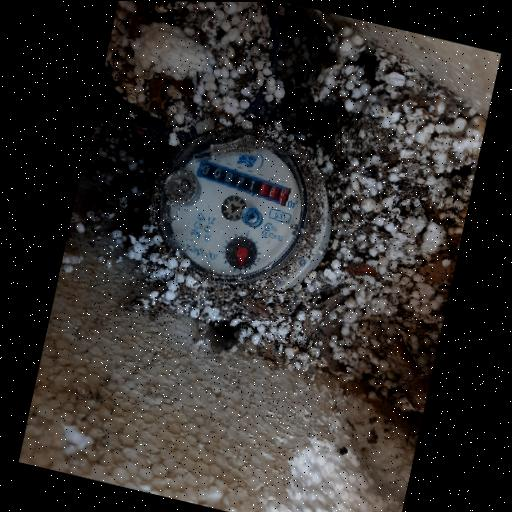0: (276, 188, 291, 207), (198, 162, 213, 179), (209, 167, 225, 182)
1: (244, 177, 259, 193), (256, 181, 270, 197)
7: (233, 174, 248, 190)
8: (267, 184, 281, 201)
9: (221, 170, 236, 185)
border_water_meter_number: (190, 151, 298, 209)
